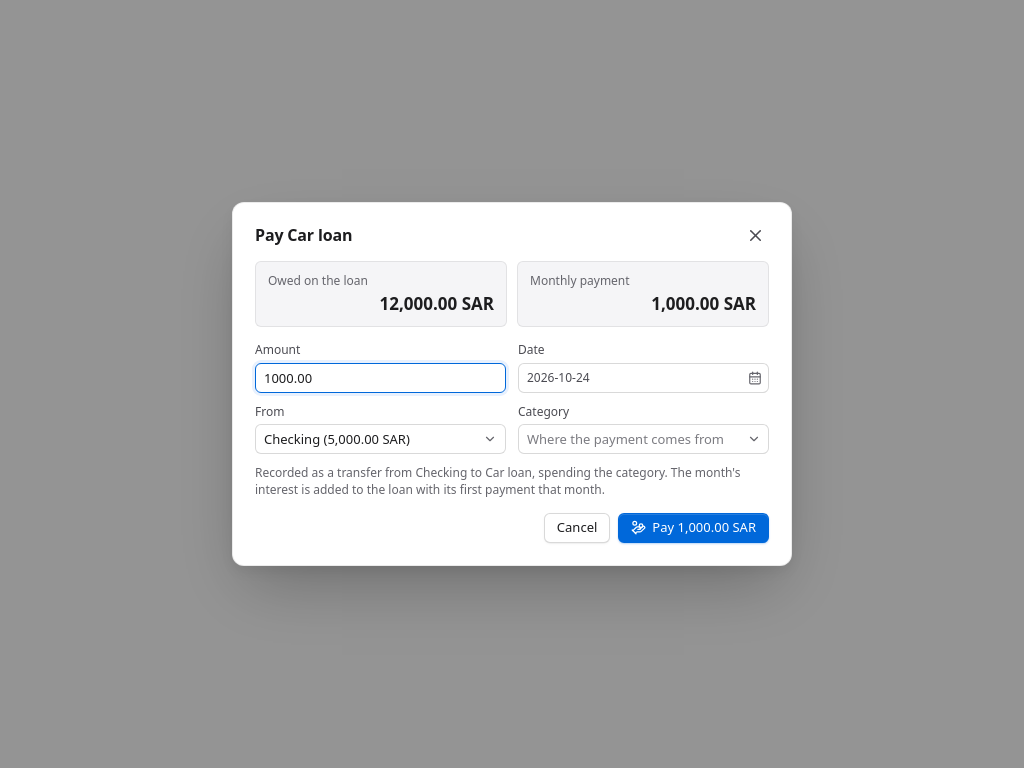
it: records a loan payment from a budget account, asking for a category when the loan has none
Click the button "Pay 1,000.00 SAR".
click(694, 528)  # box [618, 513, 769, 543]
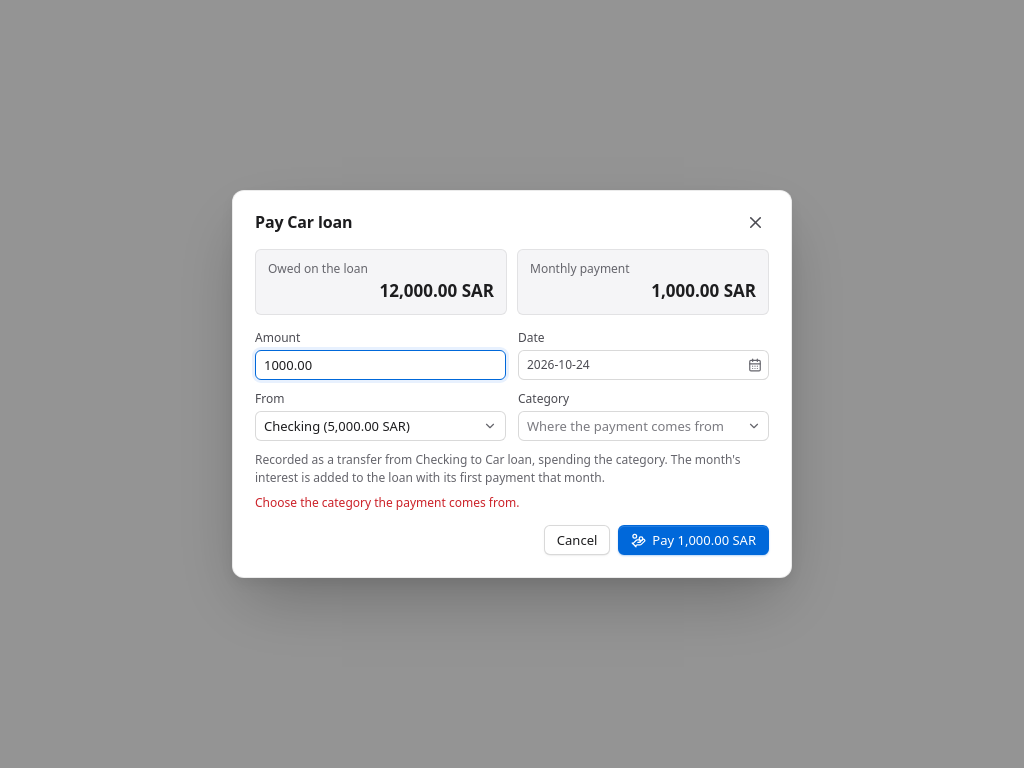
Expected: the text "Choose the category the payment comes from." is shown, [255, 494, 519, 511]
